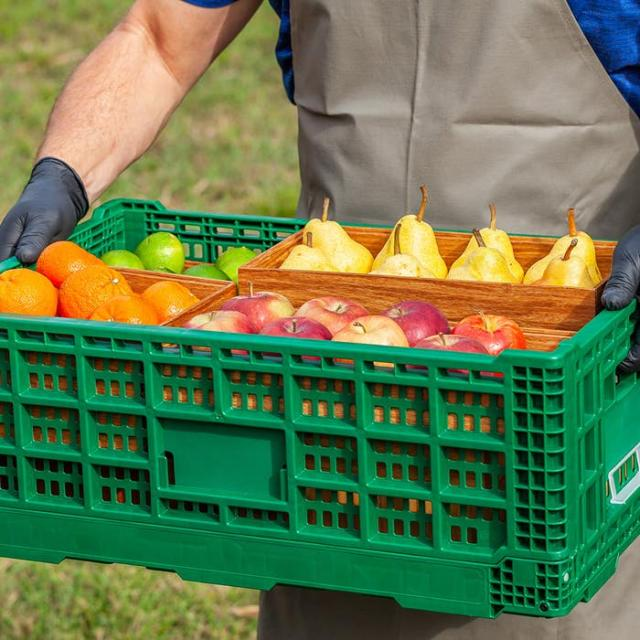basket: (69, 196, 307, 267)
